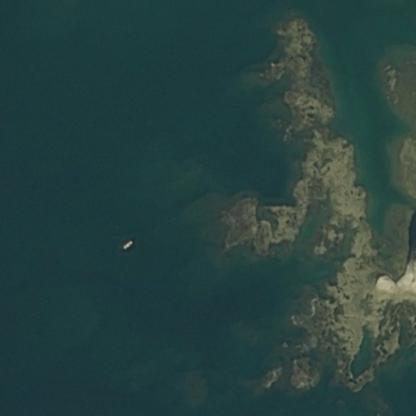ship: (118, 234, 136, 254)
